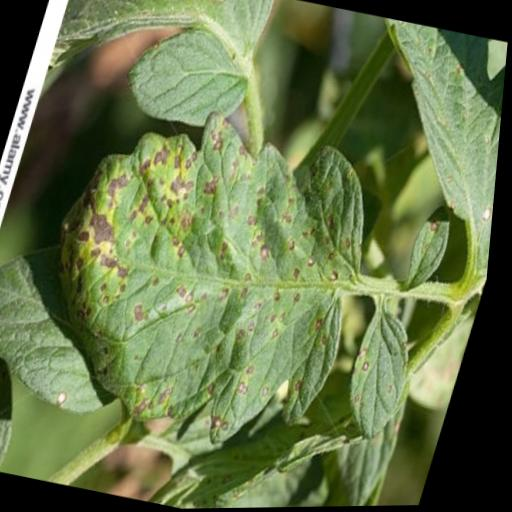Septoria: (6, 89, 408, 474), (321, 16, 510, 274), (0, 230, 168, 421), (338, 308, 431, 444), (407, 198, 465, 293)
